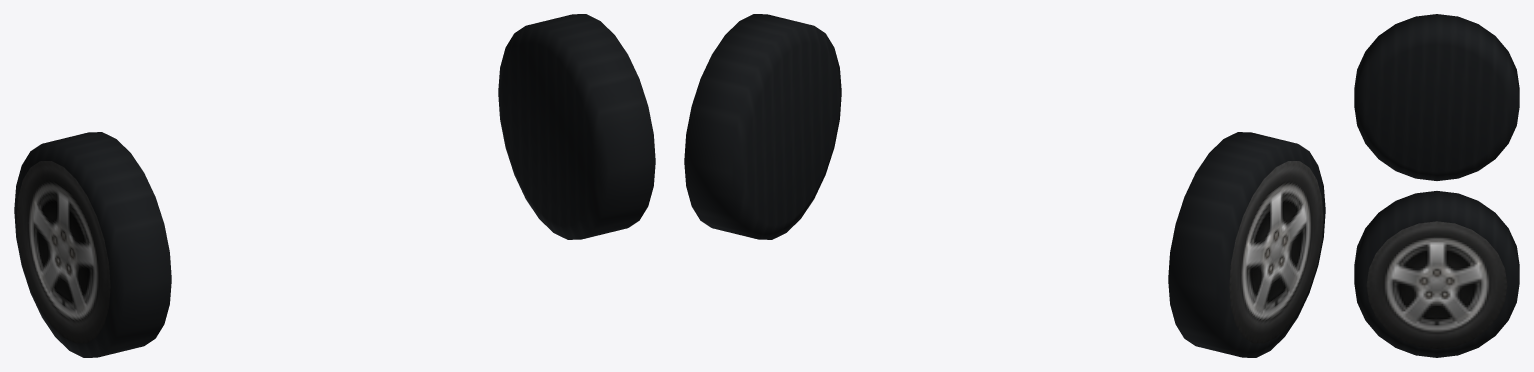
Rendered from sedan_98_wheels_r.obj.
3 views of the same model, side by side, from view 1: azimuth 30°, elevation 25°; view 2: azimuth 150°, elevation 25°; view 3: azimuth 270°, elevation 25° (orthographic). The views are drawn at different scales.
Visible parts, largest first — view 1: sedan_98_wheels_r; view 2: sedan_98_wheels_r; view 3: sedan_98_wheels_r.
Part boxes in pixels (x1=…): sedan_98_wheels_r: x1=14, y1=14, x2=655, y2=357; sedan_98_wheels_r: x1=684, y1=14, x2=1325, y2=357; sedan_98_wheels_r: x1=1354, y1=14, x2=1519, y2=357.
Bounding box in the file's own units: 1.77 × 0.6236 × 0.6236.
